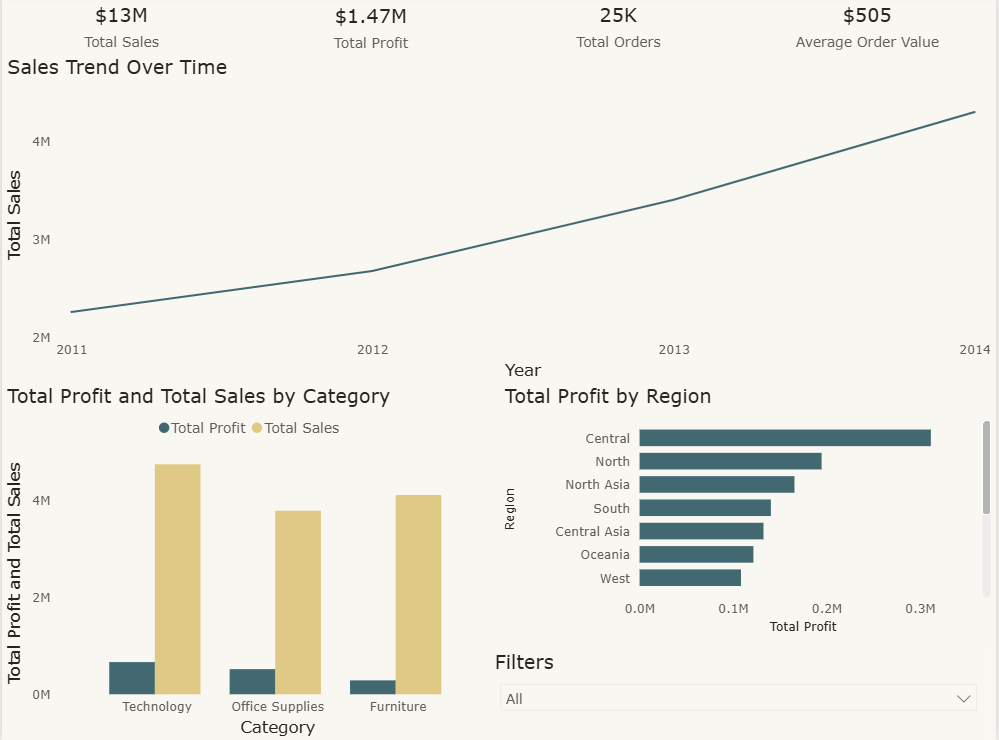

This screenshot's page, from the dashboard's own definition file:
{"tool":"powerbi","page":{"name":"Executive Overviewr","canvas":[960,720],"ordinal":0},"visuals":[{"type":"card","fields":{"Values":["superstore_sales.Average Order Value"]},"box":[710.5,0,249.5,57.5],"z":0},{"type":"card","fields":{"Values":["superstore_sales.Total Orders"]},"box":[480.6,0,229.9,57.5],"z":1000},{"type":"card","fields":{"Values":["superstore_sales.Total Profit"]},"box":[231.1,1.2,249.5,57.5],"z":2000},{"type":"card","fields":{"Values":["superstore_sales.Total Sales"]},"box":[0,0,231.1,57.5],"z":3000},{"type":"lineChart","title":"Sales Trend Over Time","fields":{"Category":["superstore_sales.order_date.Variation.Date Hierarchy.Year","superstore_sales.order_date.Variation.Date Hierarchy.Month"],"Y":["superstore_sales.Total Sales"]},"box":[0,57.5,959.9,317.9],"z":4000},{"type":"clusteredColumnChart","fields":{"Category":["superstore_sales.category"],"Y":["superstore_sales.Total Profit","superstore_sales.Total Sales"]},"box":[0,375.4,480.6,344.8],"z":5000},{"type":"barChart","fields":{"Y":["superstore_sales.Total Profit"],"Category":["superstore_sales.region"]},"box":[480.6,375.4,479.4,245.8],"z":6000},{"type":"slicer","title":"Filters","fields":{"Values":["superstore_sales.order_date.Variation.Date Hierarchy.Year","superstore_sales.category","superstore_sales.region","superstore_sales.segment"]},"box":[470.5,632.2,480.2,88.1],"z":7000}]}

Visuals, with their boxes in screenshot pixels (x1, y1, x2, y2), scaled from the page's 960x720 canvas onto the 999x740 screenshot:
card - superstore_sales.Average Order Value: box=[739, 0, 998, 59]
card - superstore_sales.Total Orders: box=[500, 0, 739, 59]
card - superstore_sales.Total Profit: box=[240, 1, 500, 60]
card - superstore_sales.Total Sales: box=[0, 0, 240, 59]
"Sales Trend Over Time" lineChart: box=[0, 59, 998, 386]
clusteredColumnChart - superstore_sales.category x superstore_sales.Total Profit: box=[0, 386, 500, 739]
barChart - superstore_sales.Total Profit x superstore_sales.region: box=[500, 386, 998, 638]
"Filters" slicer: box=[490, 650, 989, 739]
